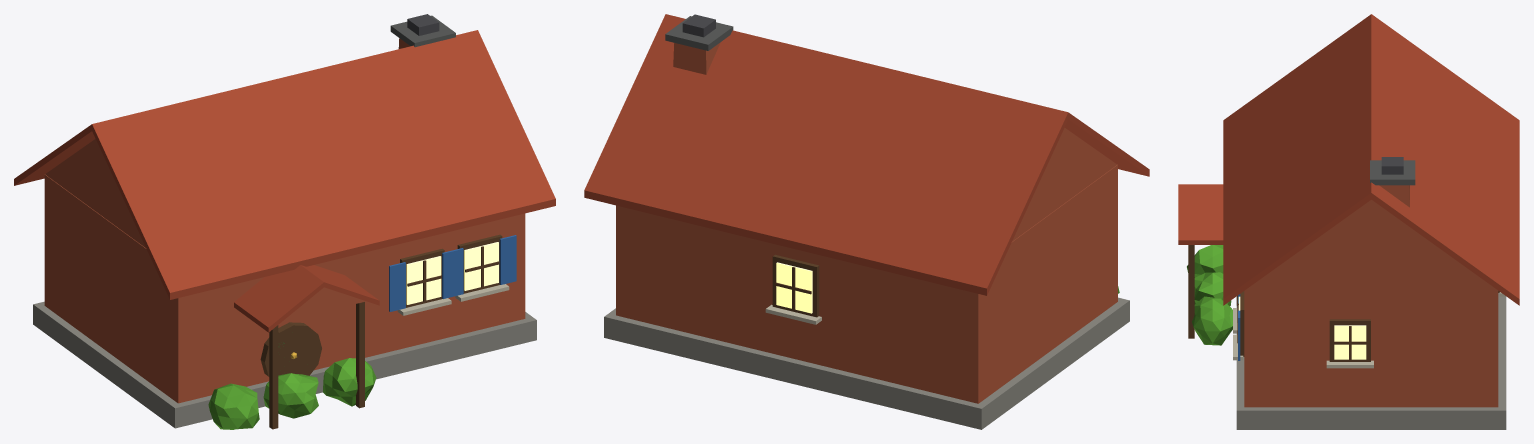
The model's file is hobbit_cottage_2.glb.
3 views of the same model, side by side, from view 1: azimuth 30°, elevation 25°; view 2: azimuth 150°, elevation 25°; view 3: azimuth 270°, elevation 25° (orthographic). The views are drawn at different scales.
Visible parts, largest first — view 1: hobbit_cottage_2; view 2: hobbit_cottage_2; view 3: hobbit_cottage_2.
Part boxes in pixels (x1,y1,x2,y2): hobbit_cottage_2: (14,14,555,429); hobbit_cottage_2: (584,14,1149,429); hobbit_cottage_2: (1178,14,1519,429).
Size of what is drawn, in the model's own units: 8 by 5.36 by 6.45.
